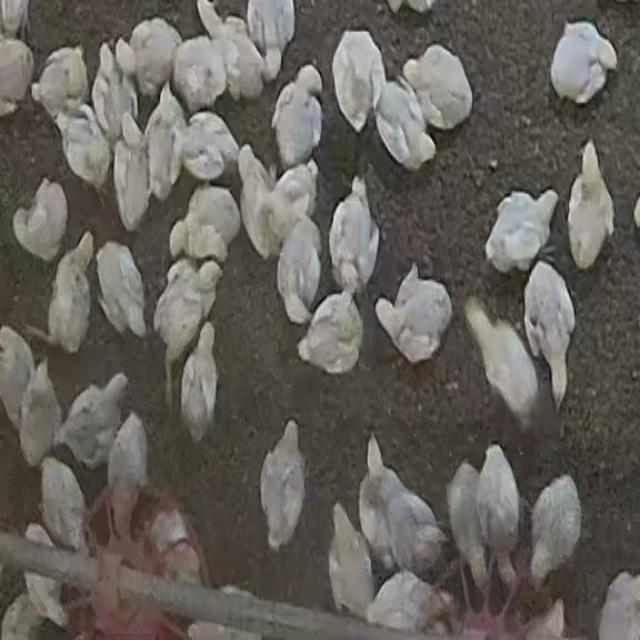chicken: (357, 437, 446, 580), (464, 297, 542, 445), (374, 262, 452, 366), (523, 258, 574, 409), (56, 368, 128, 472), (475, 442, 523, 596), (196, 0, 268, 99), (527, 472, 581, 596), (484, 190, 560, 277), (446, 458, 490, 608), (170, 179, 243, 269), (259, 419, 307, 554), (44, 232, 96, 356), (403, 44, 474, 134), (158, 260, 218, 365), (297, 284, 364, 378), (327, 176, 379, 297), (566, 141, 614, 271), (330, 29, 387, 136), (372, 78, 435, 173), (360, 570, 453, 633), (326, 501, 374, 623), (21, 522, 74, 632), (54, 102, 112, 201), (93, 239, 147, 345), (270, 65, 324, 170), (551, 20, 619, 103), (274, 219, 325, 326), (111, 117, 156, 235), (178, 320, 220, 444), (106, 411, 149, 531), (176, 108, 242, 186), (238, 142, 283, 255), (18, 356, 62, 470), (268, 159, 323, 250), (172, 33, 232, 114), (144, 83, 188, 192), (127, 17, 184, 100), (11, 179, 67, 263), (146, 502, 200, 588), (32, 45, 90, 125), (0, 327, 39, 443), (41, 461, 88, 557), (92, 41, 136, 141), (246, 0, 296, 80), (0, 34, 36, 120), (593, 571, 637, 640)
